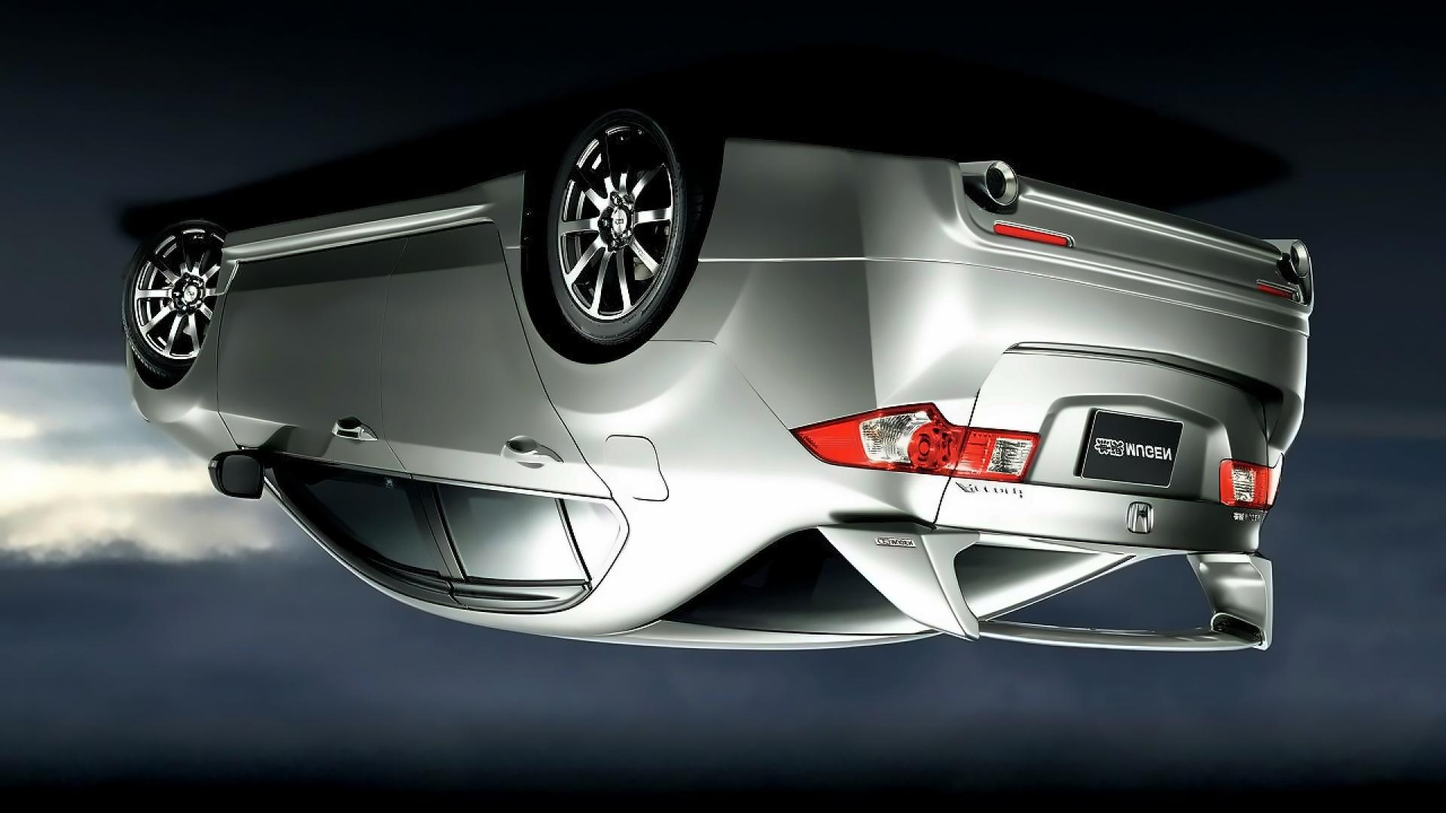Car boot: (926, 338, 1280, 651)
Driver-s door - -F-R-: (206, 193, 477, 627)
Fender - -F-R-: (112, 239, 254, 490)
Fender - -R-R-: (473, 195, 824, 628)
Passenger-s door - -R-R-: (355, 155, 627, 636)
Rear bumper: (647, 137, 1323, 437)
Rear light - -L-: (1215, 454, 1288, 512)
Rear light - -R-: (788, 400, 1041, 483)
Side bumper - -R-: (217, 156, 526, 331)
Side mirror - -R-: (207, 442, 273, 507)
